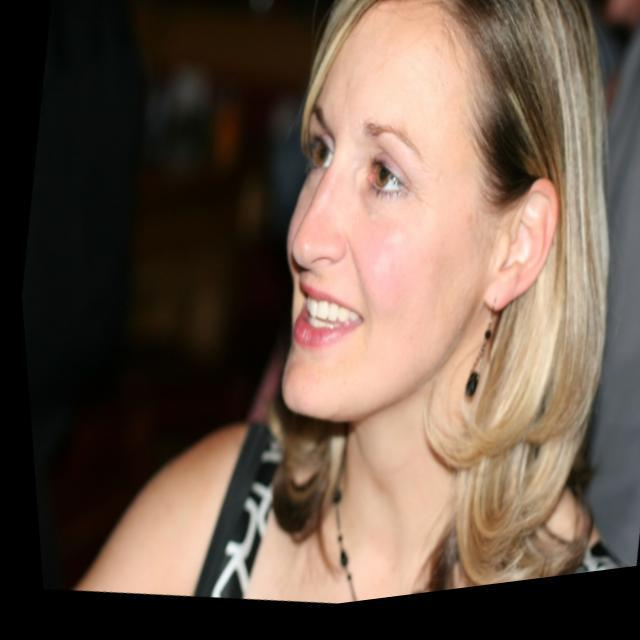Nonhelmet: (266, 0, 635, 448)
